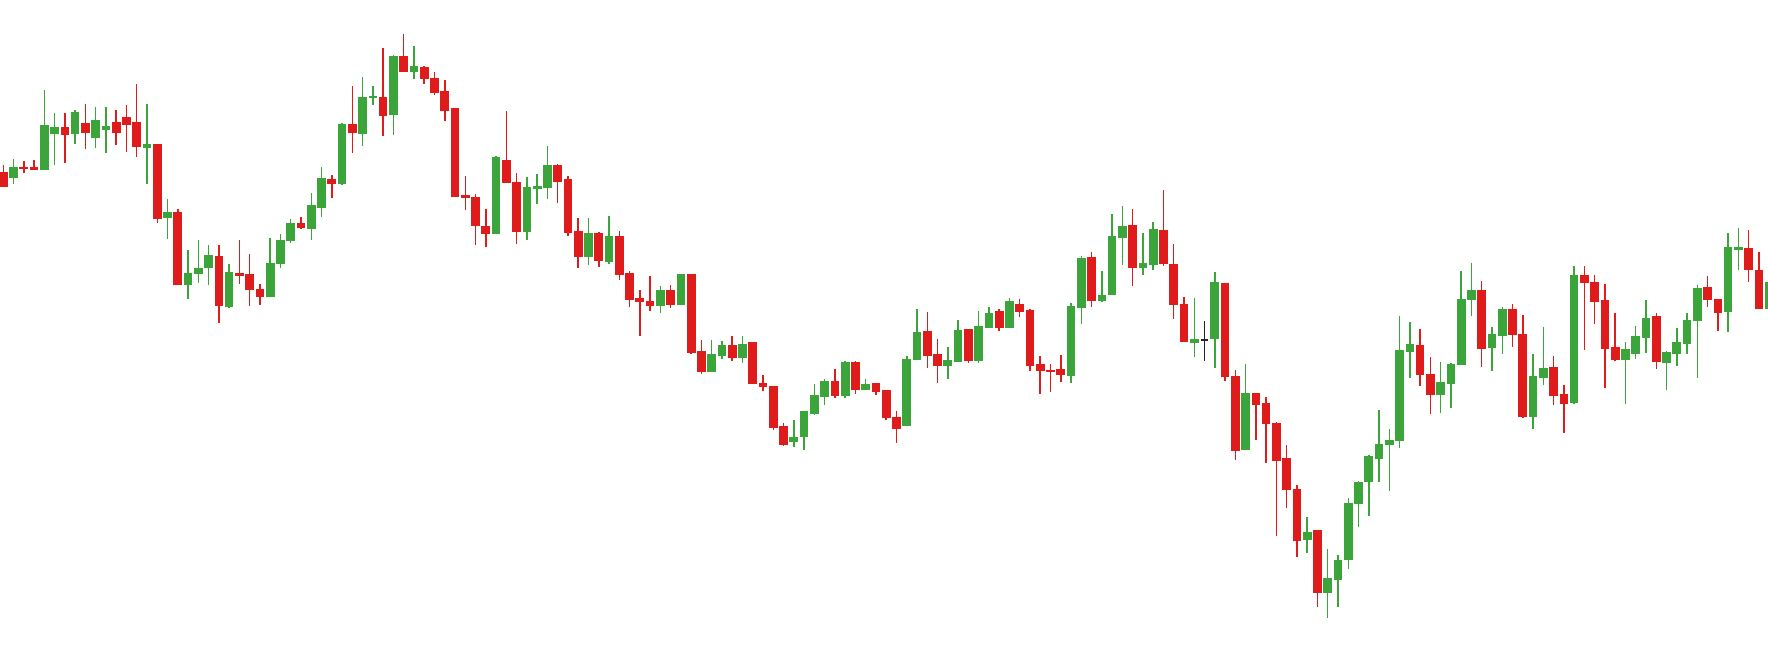buy: (1427, 342, 1538, 433), (932, 330, 1055, 397)
sell: (1104, 192, 1168, 289)
